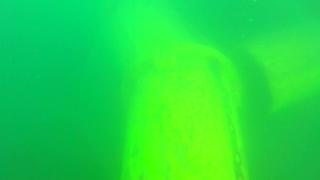pipe: (122, 42, 249, 180), (234, 36, 320, 112)
